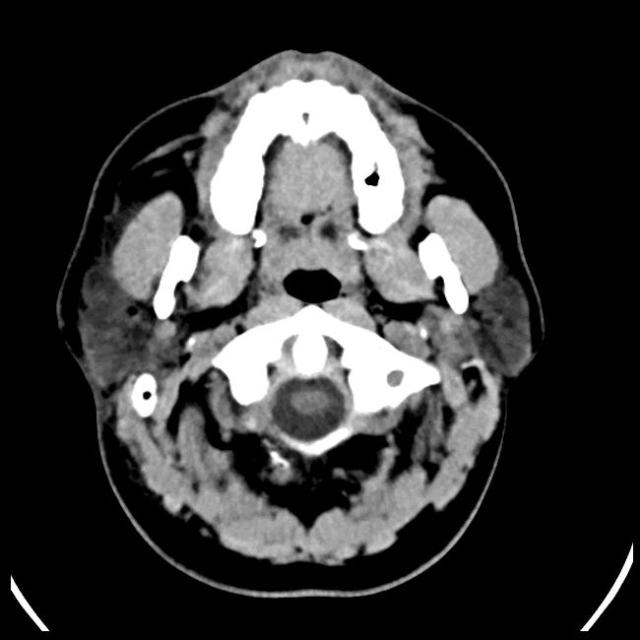lesion: (61, 52, 541, 576)
